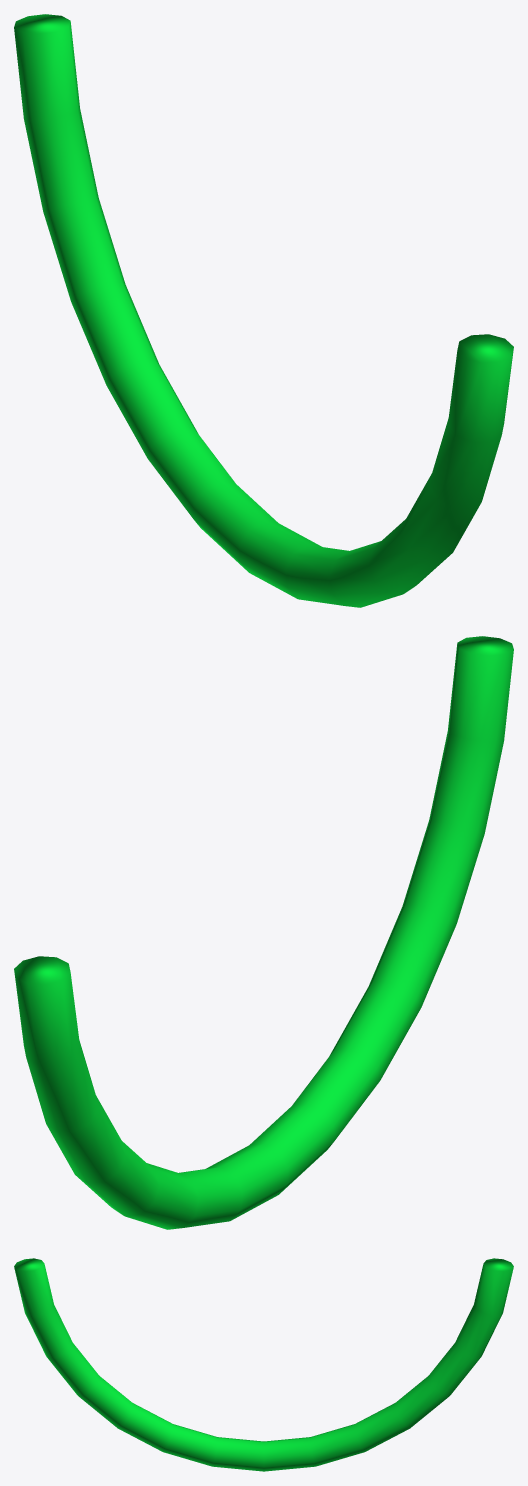
The model's file is Pipe_Ring_180.fbx.
The picture shows the model from 3 angles, top to bottom: view 1: azimuth 30°, elevation 25°; view 2: azimuth 150°, elevation 25°; view 3: azimuth 270°, elevation 25°; orthographic projection. The views are drawn at different scales.
Parts seen in each view (by area): view 1: Pipe_Ring_180; view 2: Pipe_Ring_180; view 3: Pipe_Ring_180.
Boxes of the visible parts, box(x1,y1,x2,y2) form: Pipe_Ring_180: box(14, 14, 513, 607); Pipe_Ring_180: box(14, 636, 513, 1229); Pipe_Ring_180: box(14, 1258, 513, 1471).
Bounding box in the file's own units: 0.2254 × 1.76 × 3.86.
